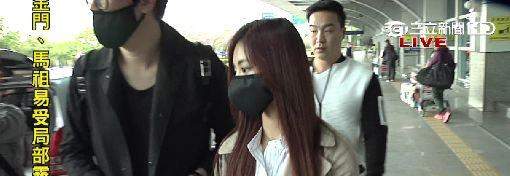NONE: (308, 22, 339, 58)
OK: (224, 60, 278, 114)
WRONG: (91, 1, 149, 48)
